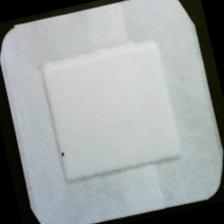Dressing: (1, 1, 224, 224)
F_Body: (52, 142, 81, 169)
